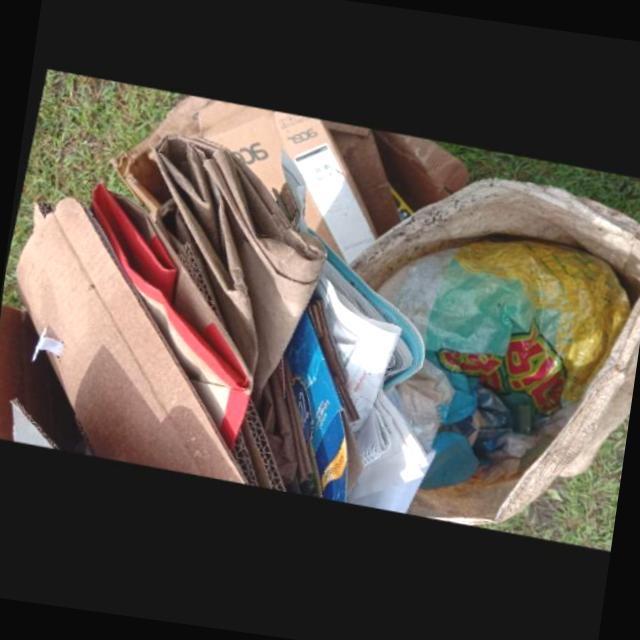carton: (14, 197, 284, 493), (139, 95, 469, 266), (89, 184, 250, 453), (283, 302, 360, 505)
giay: (148, 136, 324, 485)
